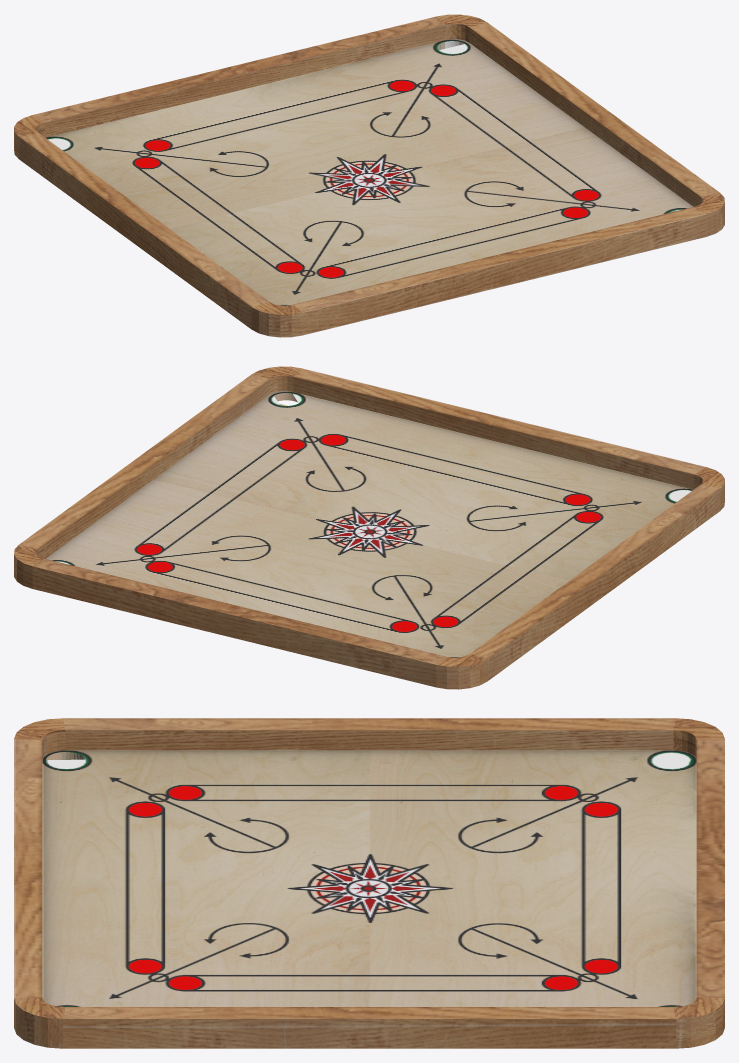
Rendered from Board Karambol.fbx.
3 renders of one model, top to bottom at view 1: azimuth 30°, elevation 25°; view 2: azimuth 150°, elevation 25°; view 3: azimuth 270°, elevation 25°, orthographic. The views are drawn at different scales.
Parts seen in each view (by area): view 1: Board; view 2: Board; view 3: Board.
Part boxes in pixels (box(x1,y1,x2,y2)): Board: box(14, 14, 724, 337); Board: box(14, 366, 724, 689); Board: box(14, 718, 724, 1048).
Size of the model in its own units: 2555 by 118 by 2553.
